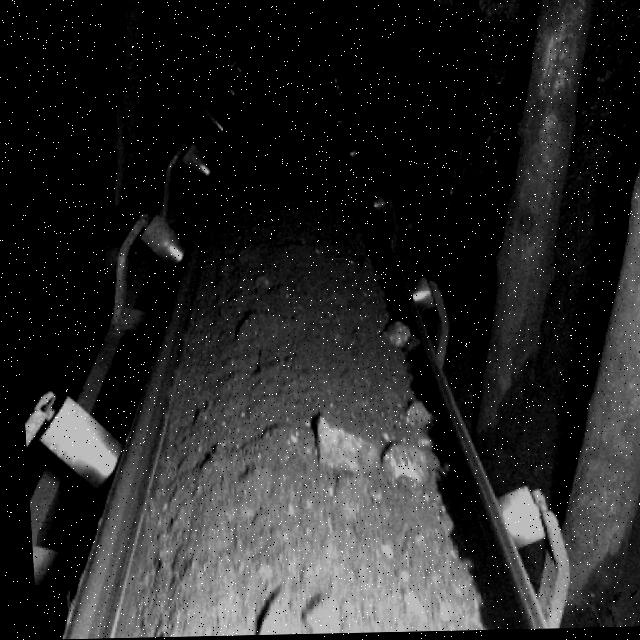large_sized_coal: (305, 416, 373, 480), (374, 439, 427, 490), (375, 318, 407, 350), (396, 398, 426, 432)
